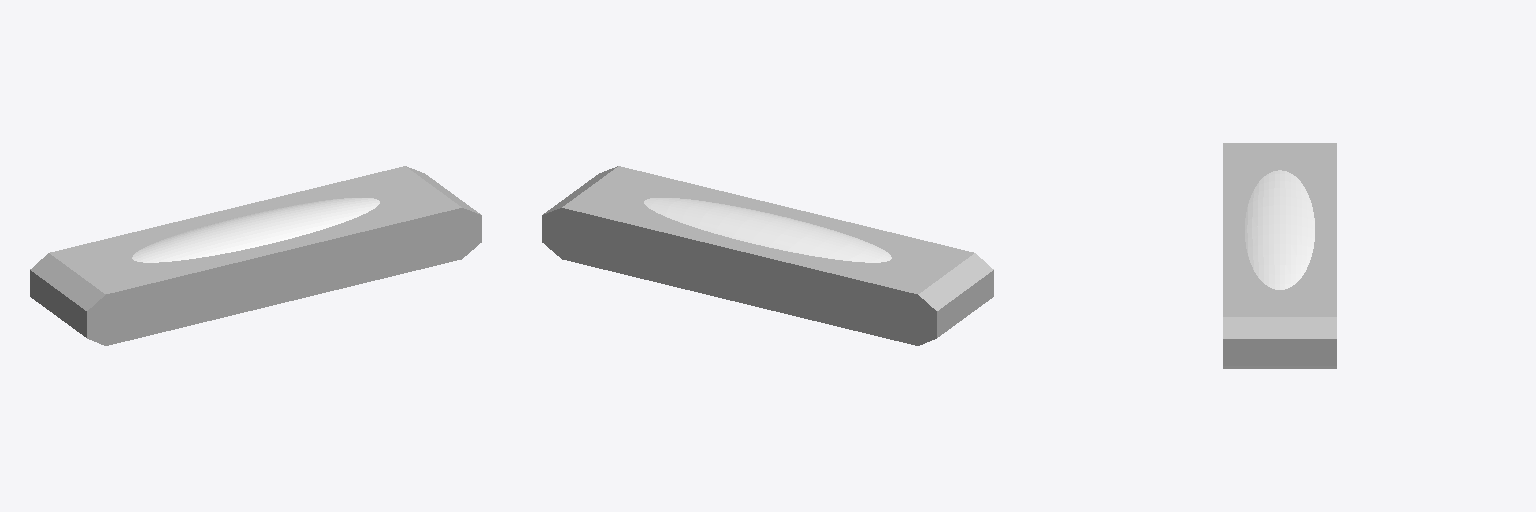
Rendered from paddle.obj.
The picture shows the model from 3 angles: view 1: azimuth 30°, elevation 25°; view 2: azimuth 150°, elevation 25°; view 3: azimuth 270°, elevation 25°; orthographic projection.
Parts seen in each view (by area): view 1: Paddle_fullhitbox_invisible_PaddleHitbox, Paddle_nohitbox_PaddleMesh; view 2: Paddle_fullhitbox_invisible_PaddleHitbox, Paddle_nohitbox_PaddleMesh; view 3: Paddle_fullhitbox_invisible_PaddleHitbox, Paddle_nohitbox_PaddleMesh.
Boxes of the visible parts, x1,y1,x2,y2 form: Paddle_fullhitbox_invisible_PaddleHitbox: [30, 166, 481, 345]; Paddle_nohitbox_PaddleMesh: [132, 198, 379, 262]; Paddle_fullhitbox_invisible_PaddleHitbox: [542, 166, 993, 345]; Paddle_nohitbox_PaddleMesh: [644, 198, 891, 262]; Paddle_fullhitbox_invisible_PaddleHitbox: [1223, 143, 1336, 368]; Paddle_nohitbox_PaddleMesh: [1245, 170, 1314, 289].
Size of the model in its own units: 1 by 0.154 by 0.25.